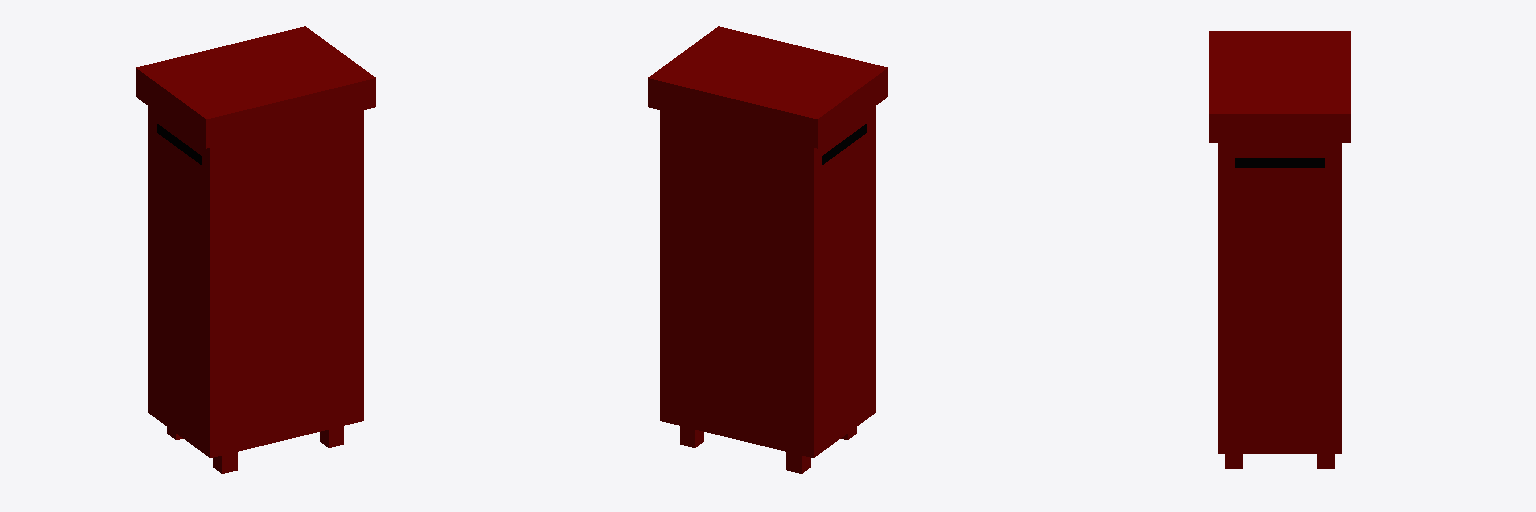
The model's file is post_box.obj.
3 renders of one model, left to right at view 1: azimuth 30°, elevation 25°; view 2: azimuth 150°, elevation 25°; view 3: azimuth 270°, elevation 25°, orthographic.
Parts seen in each view (by area): view 1: MainBox_Cube; view 2: MainBox_Cube; view 3: MainBox_Cube, Input_Cube.005.
Part boxes in pixels (x1,y1,x2,y2): MainBox_Cube: (136, 26, 375, 457); MainBox_Cube: (648, 26, 887, 457); MainBox_Cube: (1209, 31, 1350, 453); Input_Cube.005: (1235, 158, 1324, 167).
Bounding box in the file's own units: 2.22 × 4.57 × 1.6.